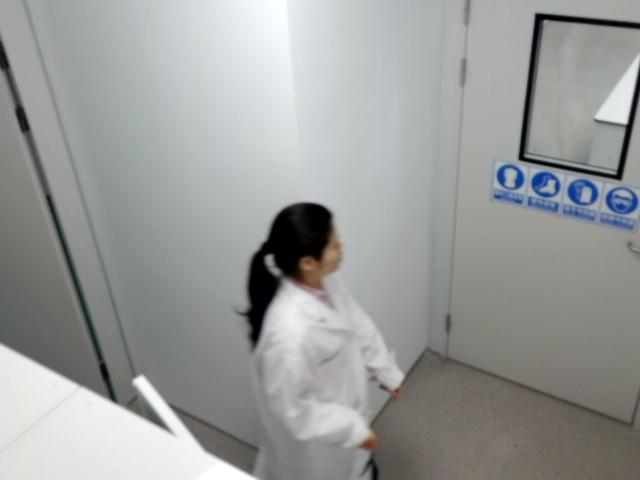Lab_coat: (238, 203, 403, 479)
